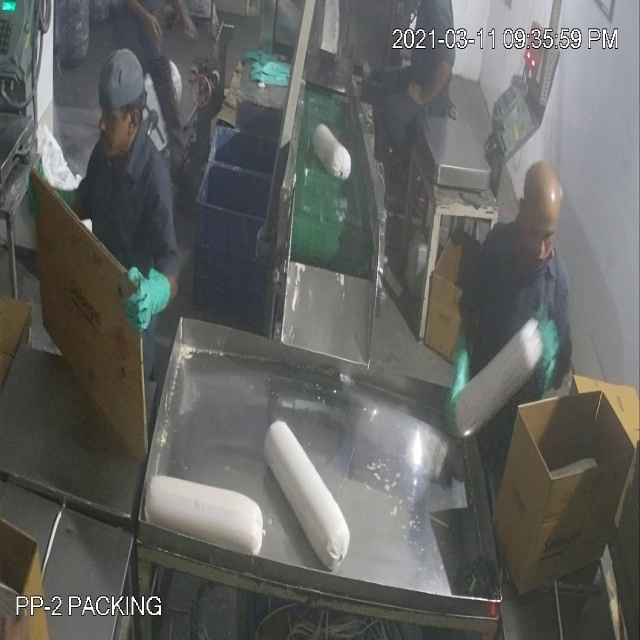Guantes: (128, 246, 176, 352)
Sin_guantes: (388, 49, 466, 123)
